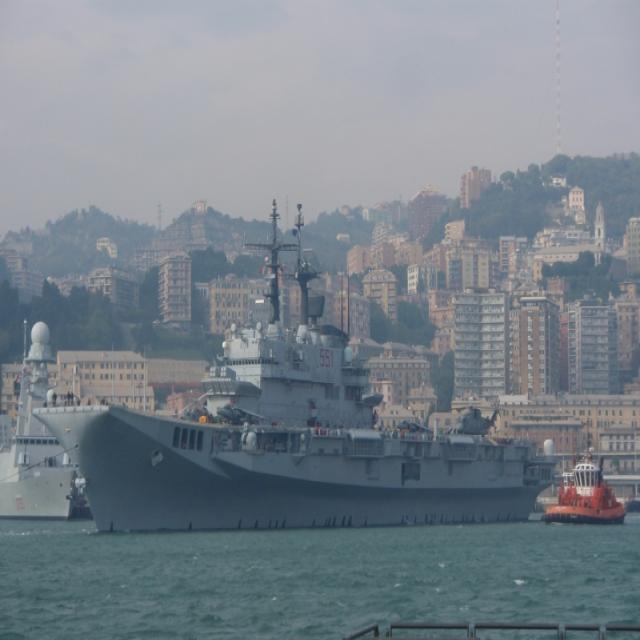Portanaves: (29, 201, 566, 545)
